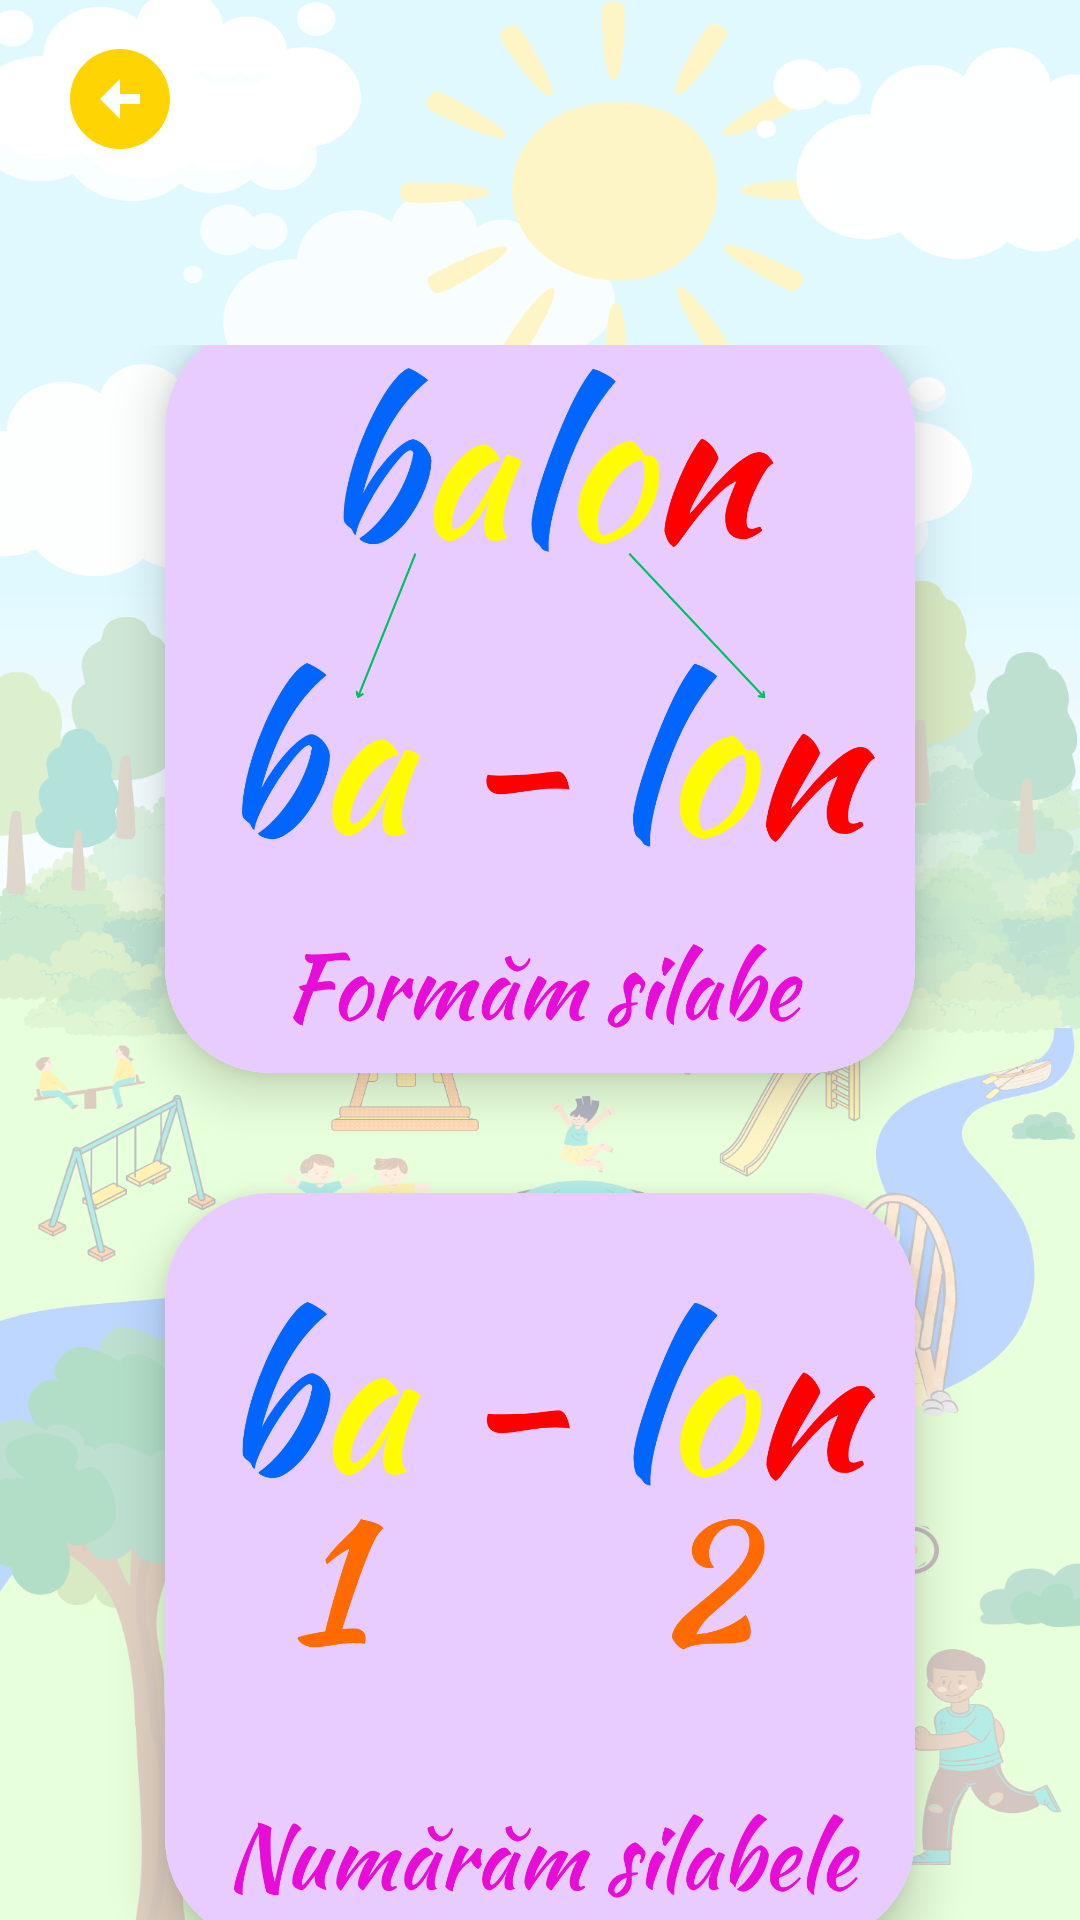

Icon bounding boxes for this 1080×1920 phone screenshot, format [left=x1, top=y1, right=x2, bottom=y2]:
Înapoi: [left=70, top=49, right=170, bottom=149]
